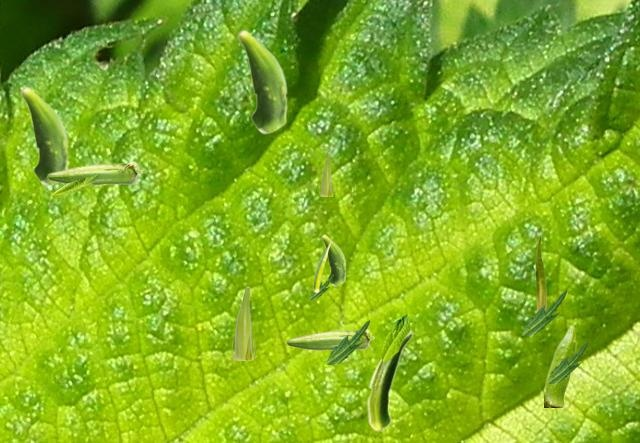okra: (237, 29, 287, 133), (20, 86, 68, 185), (366, 332, 412, 431), (544, 324, 575, 406), (47, 161, 141, 184), (230, 286, 254, 359), (286, 329, 373, 349), (321, 234, 345, 285), (313, 241, 330, 292), (535, 236, 545, 311), (319, 153, 332, 195)
